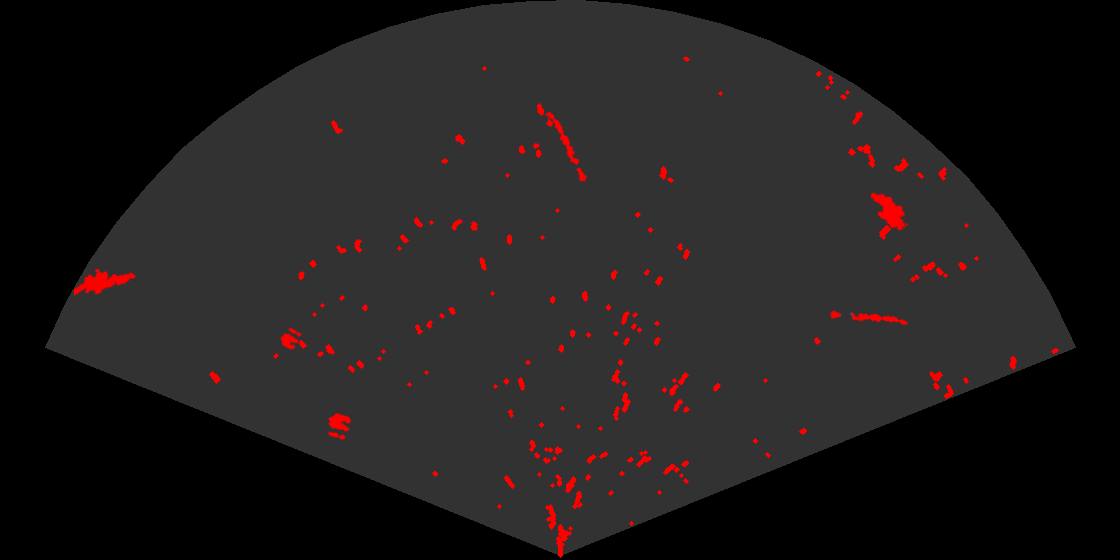AUV: (869, 191, 907, 232)
ball: (326, 411, 353, 441), (279, 326, 303, 352)
chain: (546, 110, 589, 186), (829, 308, 910, 327)
frogman: (74, 267, 137, 297)
